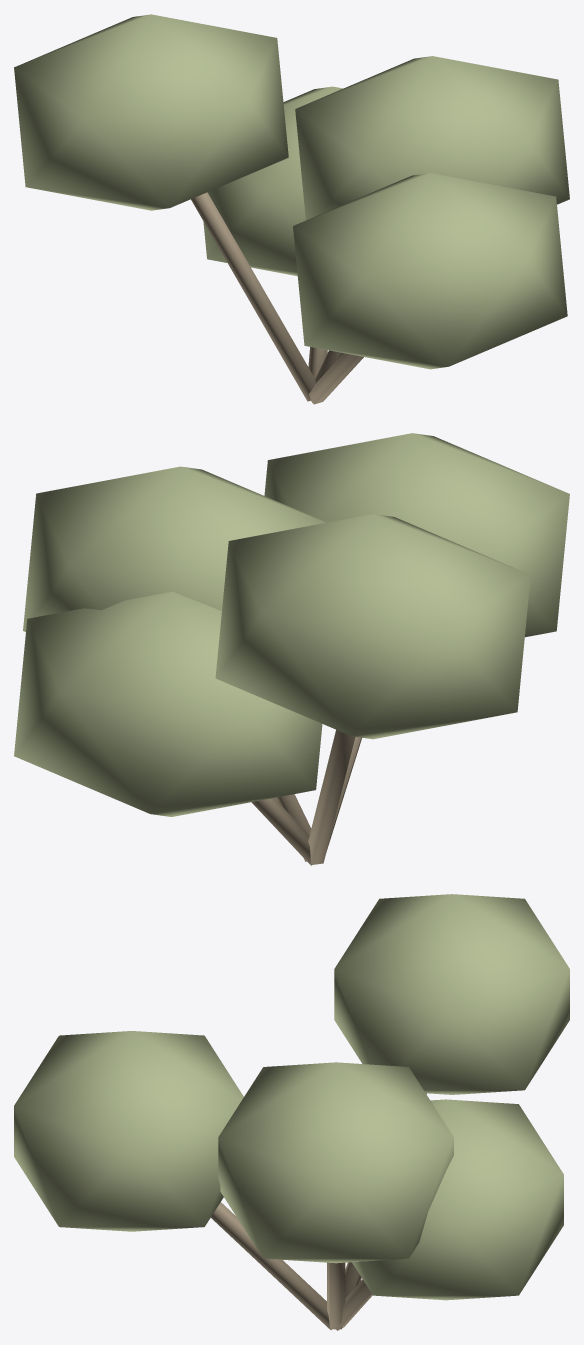
File: arizona-creosote_lod1.glb
3 renders of one model, top to bottom at view 1: azimuth 30°, elevation 25°; view 2: azimuth 150°, elevation 25°; view 3: azimuth 270°, elevation 25°, orthographic. The views are drawn at different scales.
Parts seen in each view (by area): view 1: RF_ShrubLeaves.001, RF_ShrubLeaves.002, RF_ShrubLeaves, RF_ShrubLeaves.003, RF_ShrubBranch.002, RF_ShrubBranch.003; view 2: RF_ShrubLeaves.001, RF_ShrubLeaves.003, RF_ShrubLeaves, RF_ShrubLeaves.002, RF_ShrubBranch.002, RF_ShrubBranch, RF_ShrubBranch.001; view 3: RF_ShrubLeaves, RF_ShrubLeaves.001, RF_ShrubLeaves.002, RF_ShrubLeaves.003, RF_ShrubBranch.003, RF_ShrubBranch.001, RF_ShrubBranch.
Boxes of the visible parts, x1,y1,x2,y2 form: RF_ShrubLeaves.001: (14,14,288,210); RF_ShrubLeaves.002: (293,173,567,369); RF_ShrubLeaves: (295,56,569,220); RF_ShrubLeaves.003: (203,86,342,276); RF_ShrubBranch.002: (191,192,315,401); RF_ShrubBranch.003: (309,353,363,404); RF_ShrubLeaves.001: (215,514,530,739); RF_ShrubLeaves.003: (14,592,322,816); RF_ShrubLeaves: (23,466,326,631); RF_ShrubLeaves.002: (264,433,569,637); RF_ShrubBranch.002: (308,730,355,864); RF_ShrubBranch: (251,798,311,865); RF_ShrubBranch.001: (275,794,311,861); RF_ShrubLeaves: (218,1062,453,1263); RF_ShrubLeaves.001: (334,894,569,1094); RF_ShrubLeaves.002: (14,1031,243,1231); RF_ShrubLeaves.003: (352,1099,563,1300); RF_ShrubBranch.003: (211,1202,331,1329); RF_ShrubBranch.001: (327,1262,345,1329); RF_ShrubBranch: (335,1279,372,1330).
Bounding box in the file's own units: 2.03 × 1.51 × 2.01.
